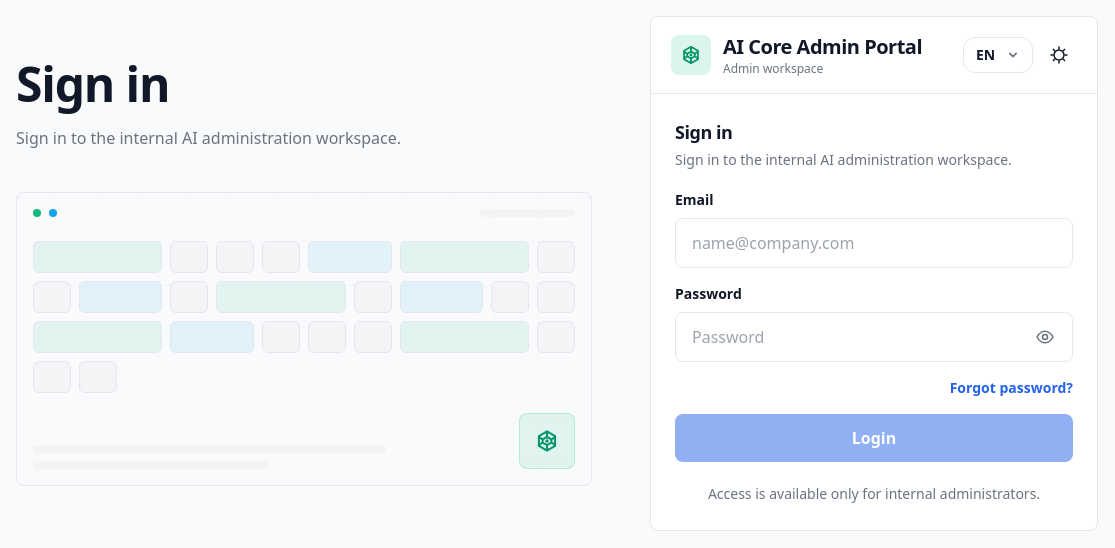
Test: LoginPage › filters invalid characters from email input
In the field with placeholder "name@company.com": [874, 242] box [675,218,1073,268], type "те(st) user+mail@example.com"
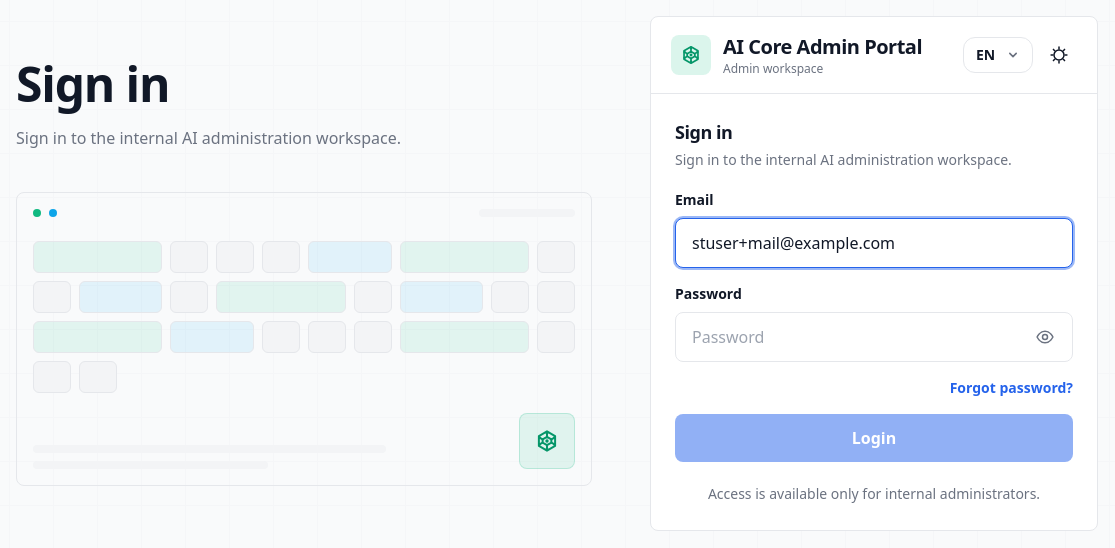
Result: the field with placeholder "name@company.com" holds "stuser+mail@example.com" at [675,218,1073,268]
